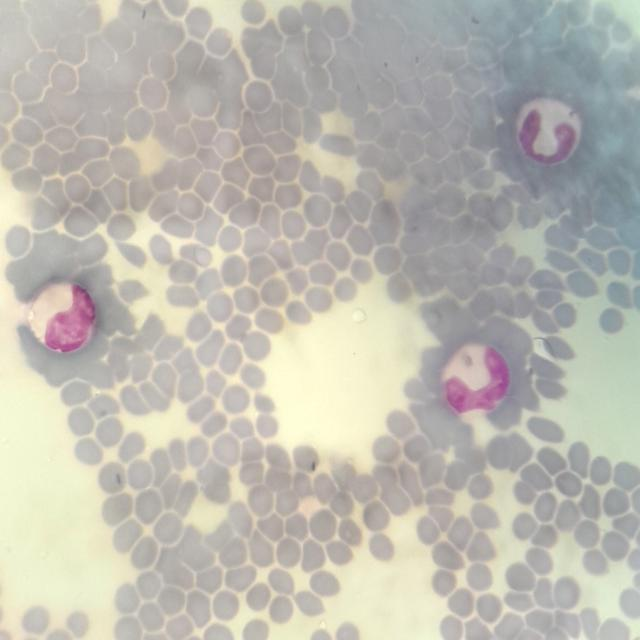Neutrofilo: (443, 343, 511, 416), (517, 99, 583, 164)
